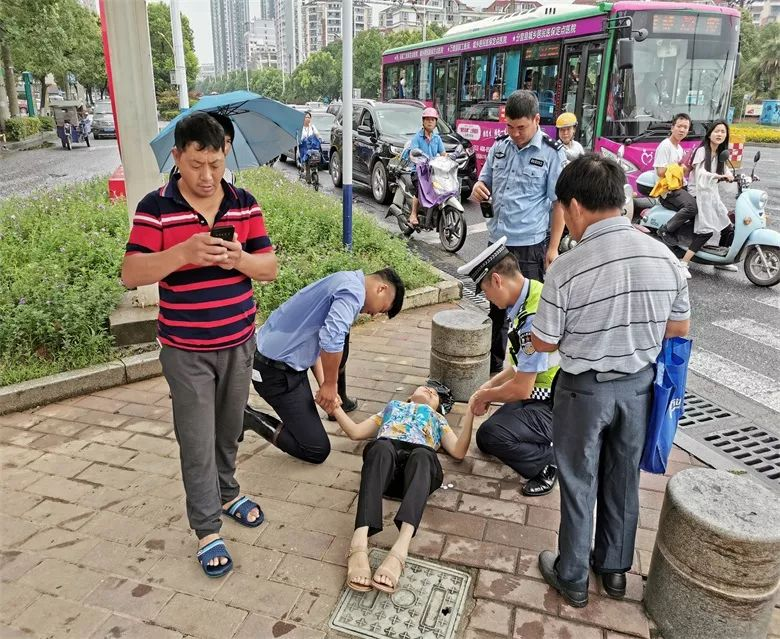10+: (15, 71, 773, 615)
down: (308, 343, 497, 596)
